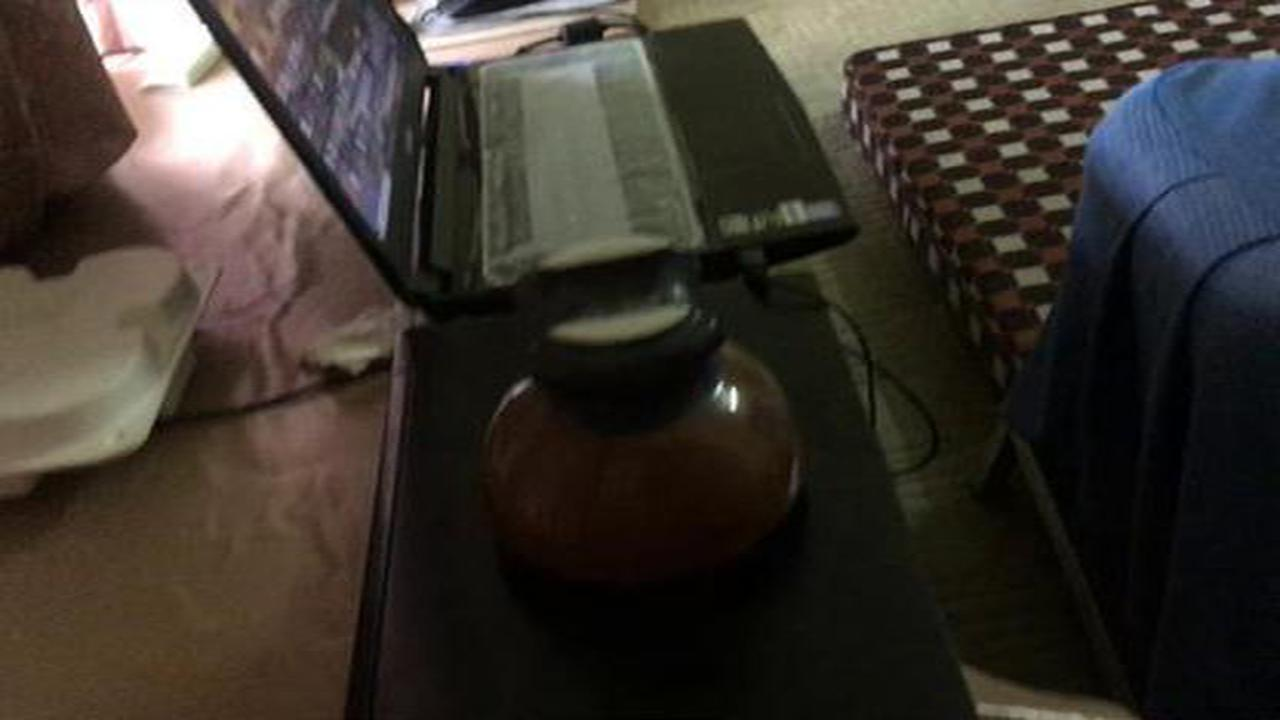insulator_pin: (453, 222, 828, 618)
